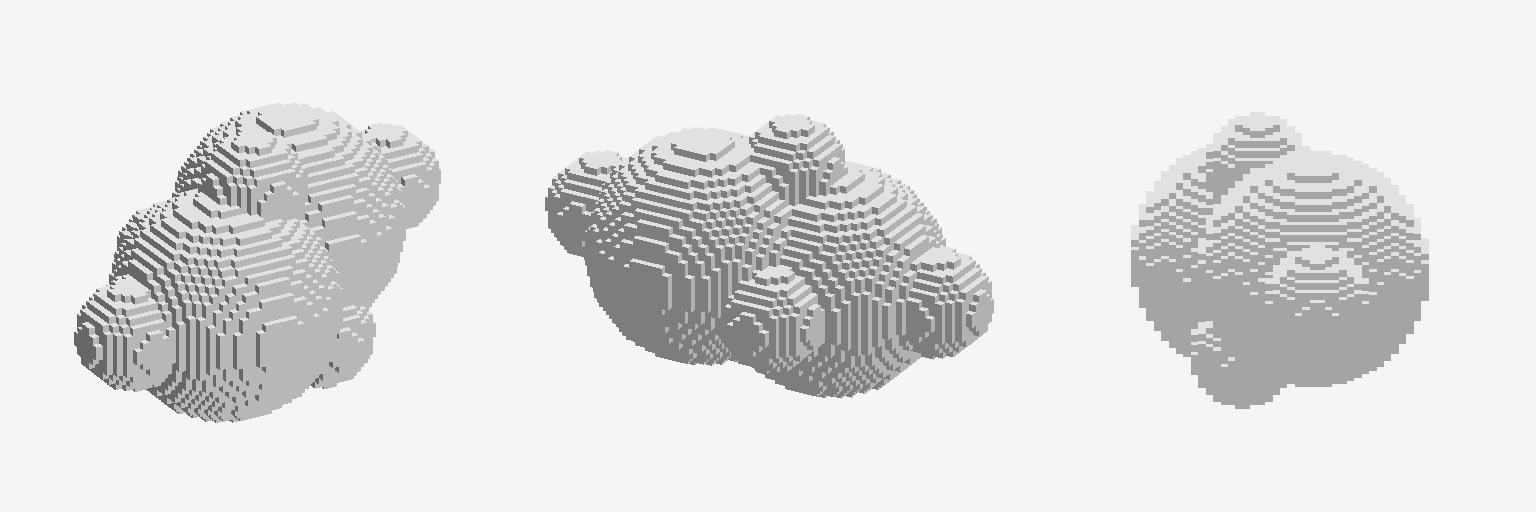
The model's file is Cloud3.obj.
The picture shows the model from 3 angles: view 1: azimuth 30°, elevation 25°; view 2: azimuth 150°, elevation 25°; view 3: azimuth 270°, elevation 25°; orthographic projection.
Parts seen in each view (by area): view 1: Cloud3; view 2: Cloud3; view 3: Cloud3.
Part boxes in pixels (x1,y1,x2,y2): Cloud3: (74, 102, 440, 422); Cloud3: (545, 114, 993, 398); Cloud3: (1131, 112, 1428, 408).
Bounding box in the file's own units: 60 × 38 × 40.